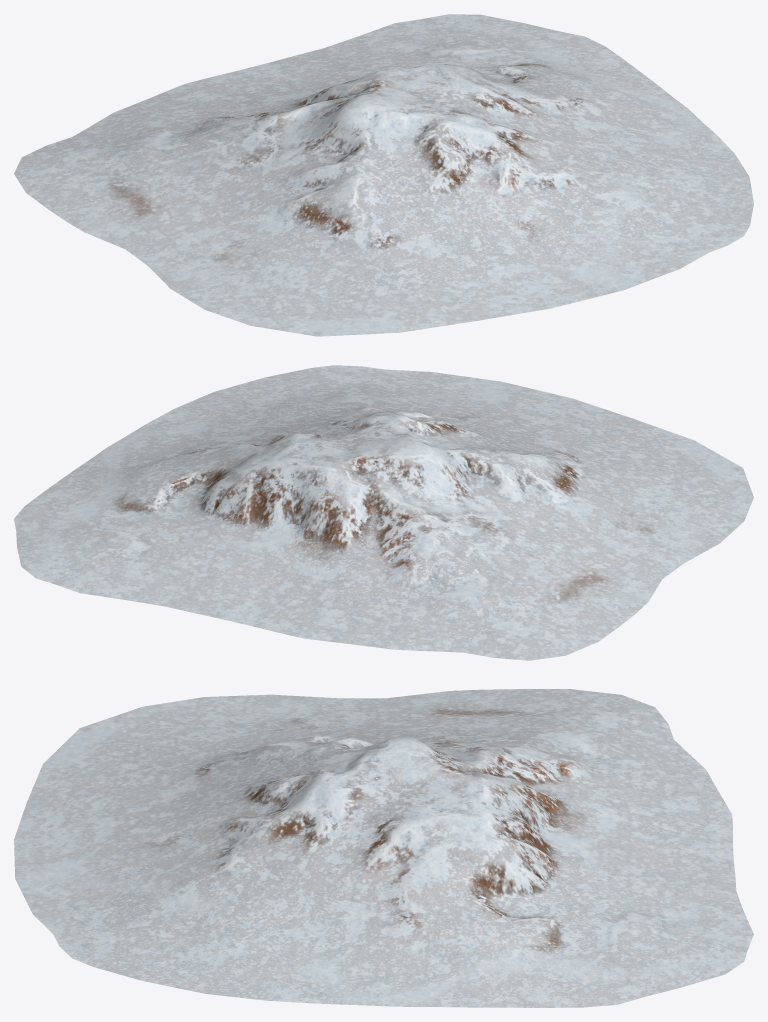
File: EP1_terrain02d.fbx
3 renders of one model, top to bottom at view 1: azimuth 30°, elevation 25°; view 2: azimuth 150°, elevation 25°; view 3: azimuth 270°, elevation 25°, orthographic. The views are drawn at different scales.
Visible parts, largest first — view 1: Terrain02d; view 2: Terrain02d; view 3: Terrain02d.
Boxes of the visible parts, left/top/right/bottom form: Terrain02d: left=14, top=14, right=753, bottom=336; Terrain02d: left=14, top=365, right=753, bottom=660; Terrain02d: left=14, top=689, right=753, bottom=1007.
Size of the model in its own units: 21.86 by 2.91 by 21.44.
